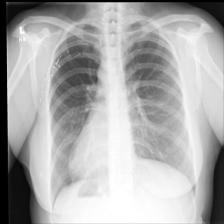normal: (47, 20, 199, 208)
